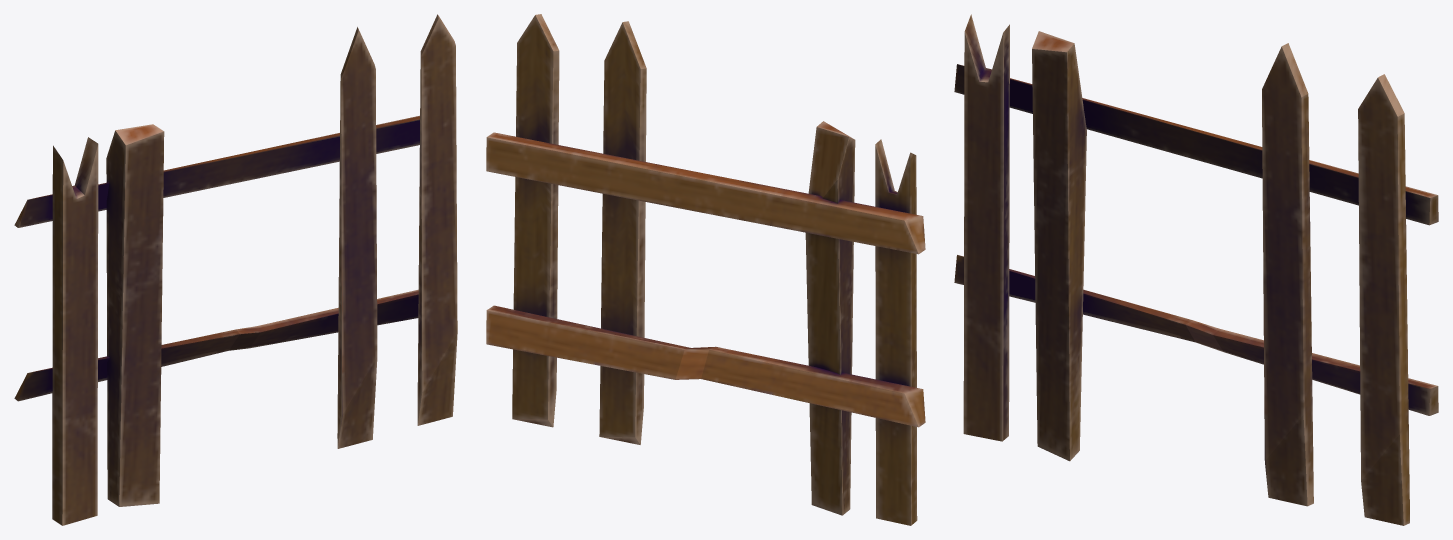
File: Fence_Plank2.fbx
3 renders of one model, left to right at view 1: azimuth 30°, elevation 25°; view 2: azimuth 150°, elevation 25°; view 3: azimuth 330°, elevation 25°, orthographic. The views are drawn at different scales.
Visible parts, largest first — view 1: EA03_Fence_Plank_01b_LOD0; view 2: EA03_Fence_Plank_01b_LOD0; view 3: EA03_Fence_Plank_01b_LOD0.
Boxes of the visible parts, bbox=[...] form: EA03_Fence_Plank_01b_LOD0: bbox=[14, 14, 457, 525]; EA03_Fence_Plank_01b_LOD0: bbox=[486, 14, 925, 525]; EA03_Fence_Plank_01b_LOD0: bbox=[954, 14, 1438, 525].
Size of the model in its own units: 2.99 by 0.4081 by 2.81.
1 material, 1 textured.
